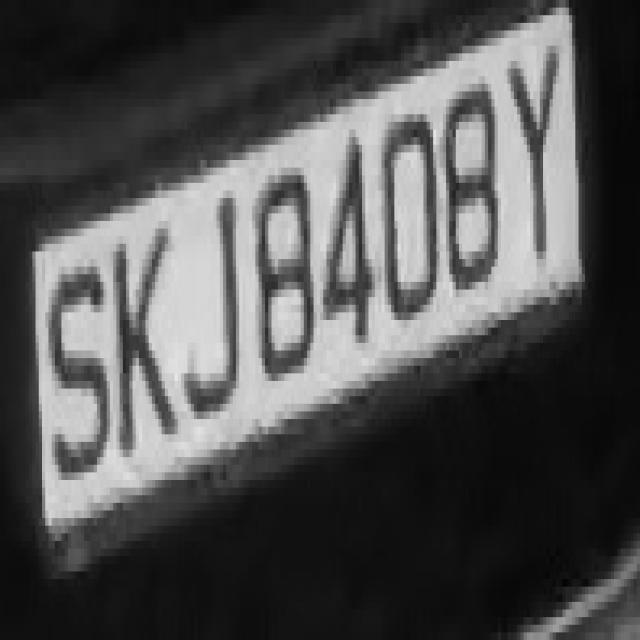0: (372, 92, 443, 358)
4: (307, 114, 381, 373)
8: (249, 145, 326, 404), (433, 69, 501, 312)
J: (174, 175, 246, 450)
K: (113, 183, 178, 480)
S: (42, 244, 110, 510)
Y: (508, 15, 566, 297)
